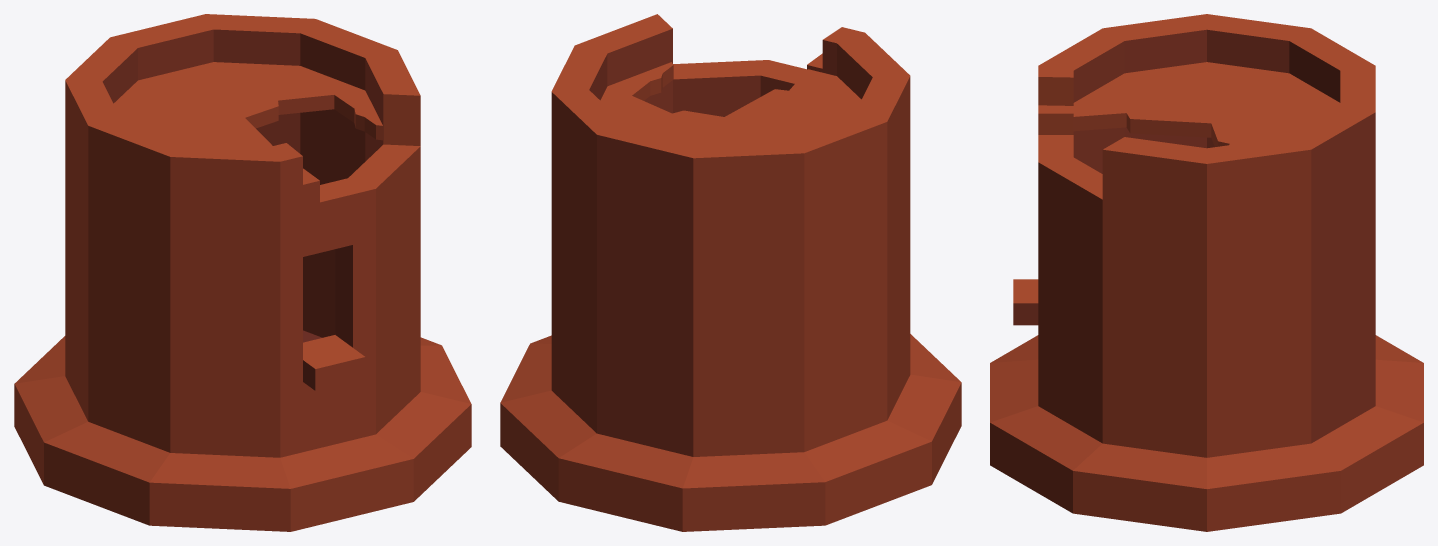
Rendered from clinder_house_B.fbx.
3 renders of one model, left to right at view 1: azimuth 30°, elevation 25°; view 2: azimuth 150°, elevation 25°; view 3: azimuth 270°, elevation 25°, orthographic.
Parts seen in each view (by area): view 1: clinder_house_B; view 2: clinder_house_B; view 3: clinder_house_B.
Boxes of the visible parts, box(x1,y1,x2,y2) form: clinder_house_B: box(14, 14, 471, 531); clinder_house_B: box(500, 14, 961, 531); clinder_house_B: box(990, 14, 1423, 531).
Size of the model in its own units: 298 by 250 by 283.
